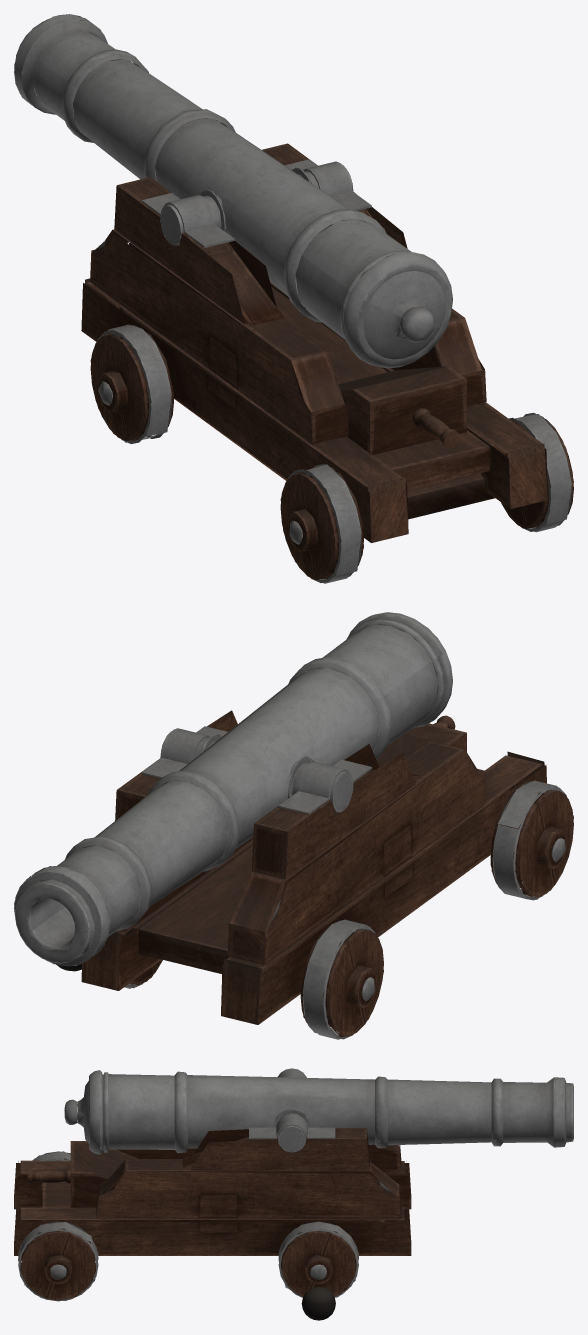
Rendered from cannon.glb.
3 renders of one model, top to bottom at view 1: azimuth 30°, elevation 25°; view 2: azimuth 150°, elevation 25°; view 3: azimuth 270°, elevation 25°, orthographic. The views are drawn at different scales.
Visible parts, largest first — view 1: korpus, cannon, koleso, detal, kreplenie; view 2: korpus, cannon, koleso, kreplenie, detal; view 3: korpus, cannon, koleso, detal, kreplenie, yadro.
Boxes of the visible parts, x1=… form: korpus: x1=81, y1=143, x2=547, y2=542; cannon: x1=14, y1=14, x2=452, y2=368; koleso: x1=90, y1=324, x2=573, y2=583; detal: x1=338, y1=366, x2=466, y2=454; kreplenie: x1=141, y1=159, x2=371, y2=247; korpus: x1=81, y1=710, x2=546, y2=1024; cannon: x1=14, y1=612, x2=452, y2=966; koleso: x1=124, y1=780, x2=573, y2=1039; kreplenie: x1=141, y1=726, x2=371, y2=814; detal: x1=376, y1=715, x2=466, y2=766; korpus: x1=14, y1=1128, x2=411, y2=1255; cannon: x1=64, y1=1070, x2=573, y2=1154; koleso: x1=18, y1=1151, x2=358, y2=1301; detal: x1=27, y1=1141, x2=137, y2=1207; kreplenie: x1=249, y1=1068, x2=335, y2=1138; yadro: x1=301, y1=1286, x2=335, y2=1320.
Bounding box in the file's own units: 0.908 × 0.7479 × 2.
2 materials, 2 textured.
